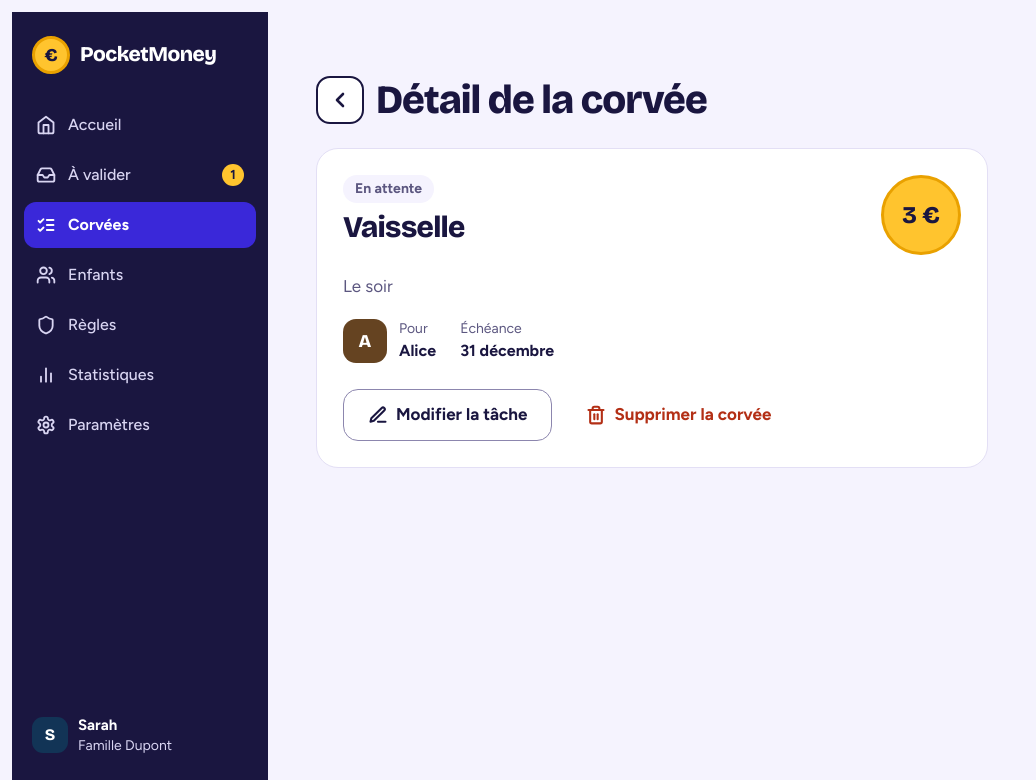
it: détail d'une corvée (parent) › ouvre l'édition (UI-2)
Click the button "Modifier la tâche" at (448, 415), box [343, 389, 552, 441]
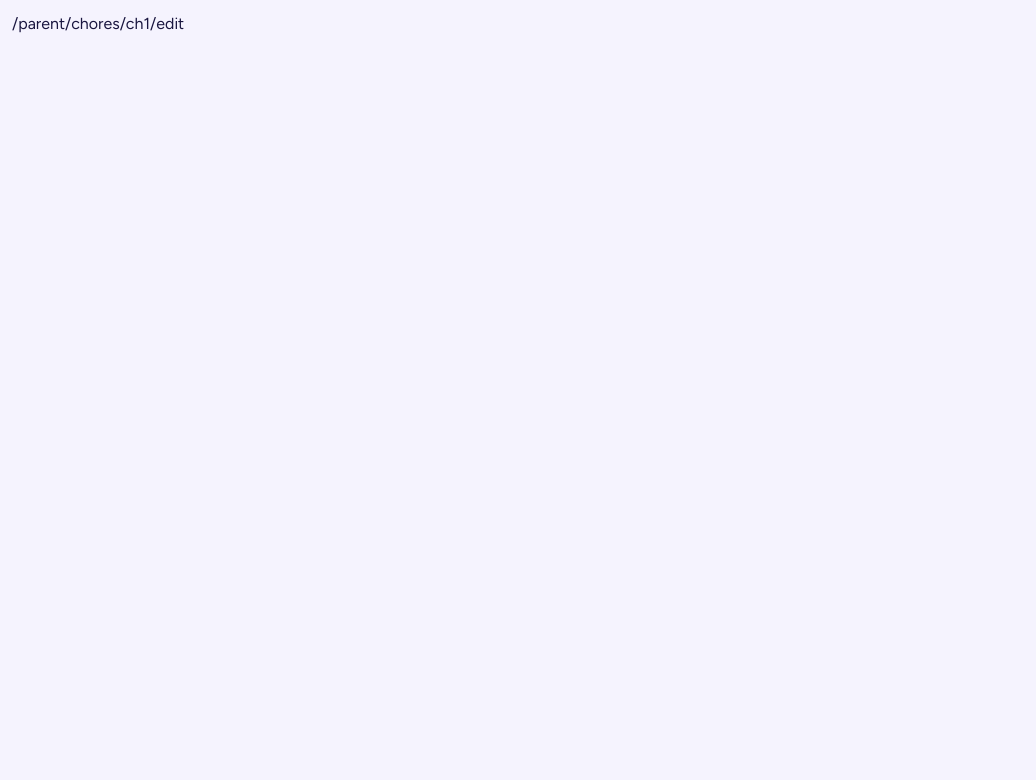
Now the text with test id "location" reads "/parent/chores/ch1/edit", box [12, 14, 184, 33]
